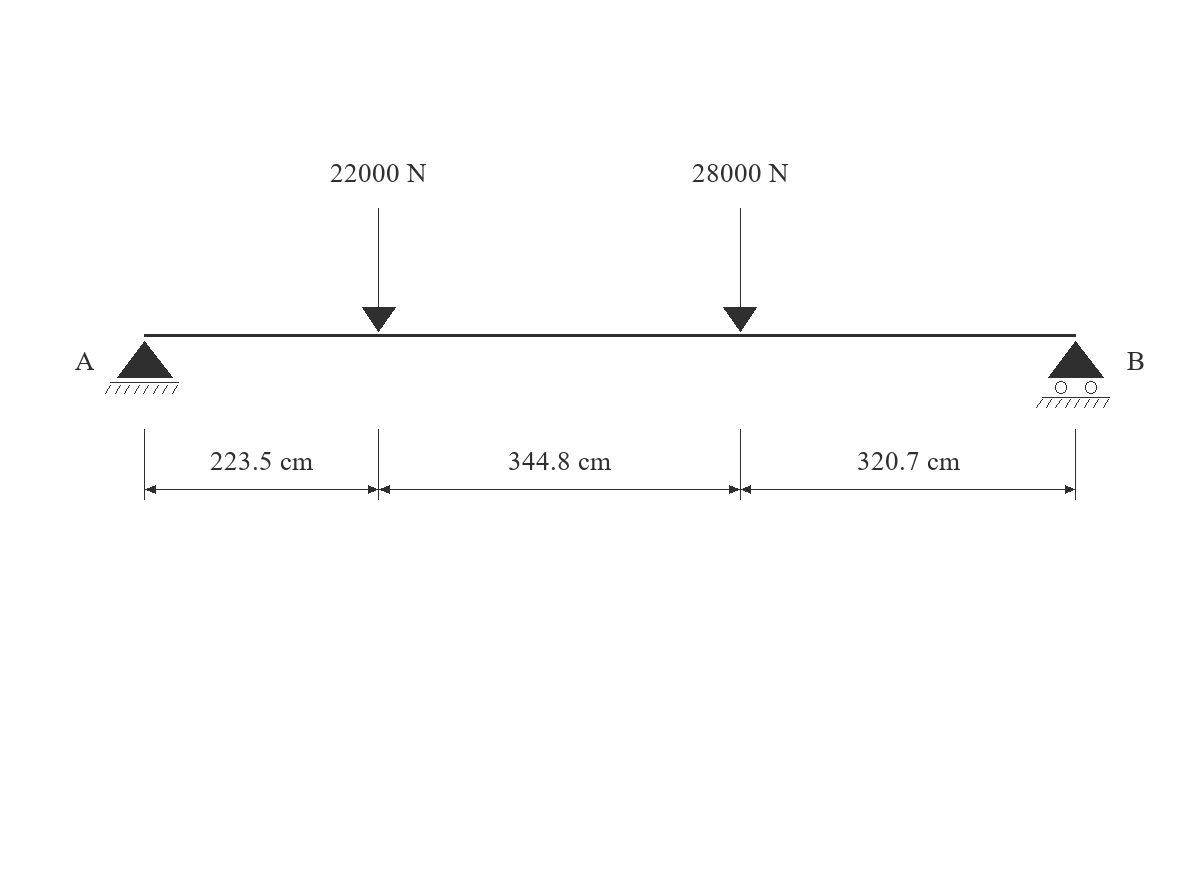pin_support: (105, 341, 179, 394)
point_load: (362, 208, 396, 332), (723, 208, 757, 332)
roller_support: (1036, 341, 1110, 408)
